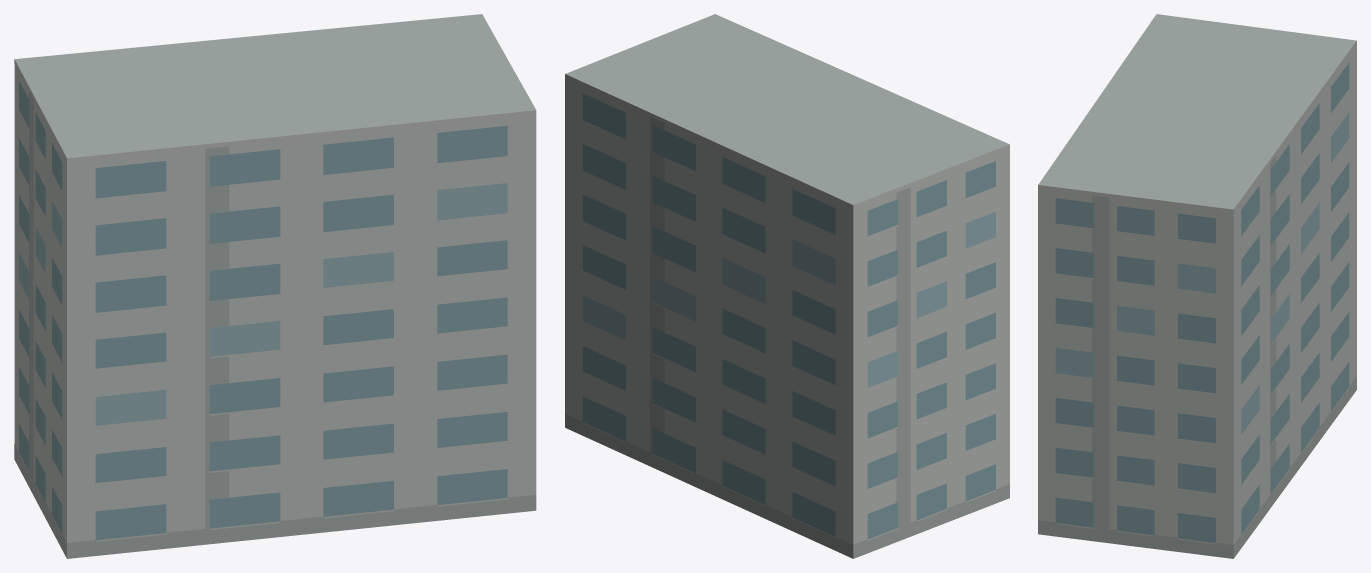
File: survey-upis-32539297.glb
The picture shows the model from 3 angles, left to right: view 1: azimuth 30°, elevation 25°; view 2: azimuth 150°, elevation 25°; view 3: azimuth 270°, elevation 25°; orthographic projection. The views are drawn at different scales.
Parts seen in each view (by area): view 1: survey-upis-32539297.tmp; view 2: survey-upis-32539297.tmp; view 3: survey-upis-32539297.tmp.
Part boxes in pixels (x1,y1,x2,y2): survey-upis-32539297.tmp: (14, 14, 536, 558); survey-upis-32539297.tmp: (565, 14, 1009, 558); survey-upis-32539297.tmp: (1038, 14, 1356, 558).
Size of the model in its own units: 25.64 by 21.35 by 17.66.
